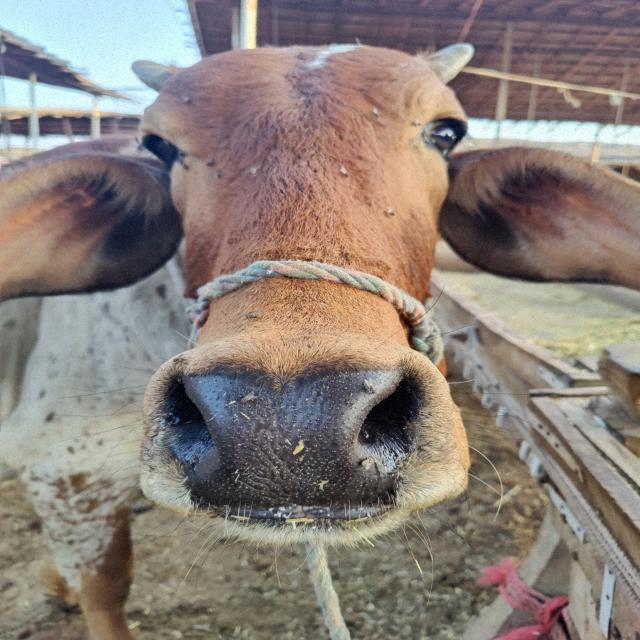muzzles: (156, 349, 438, 525)
